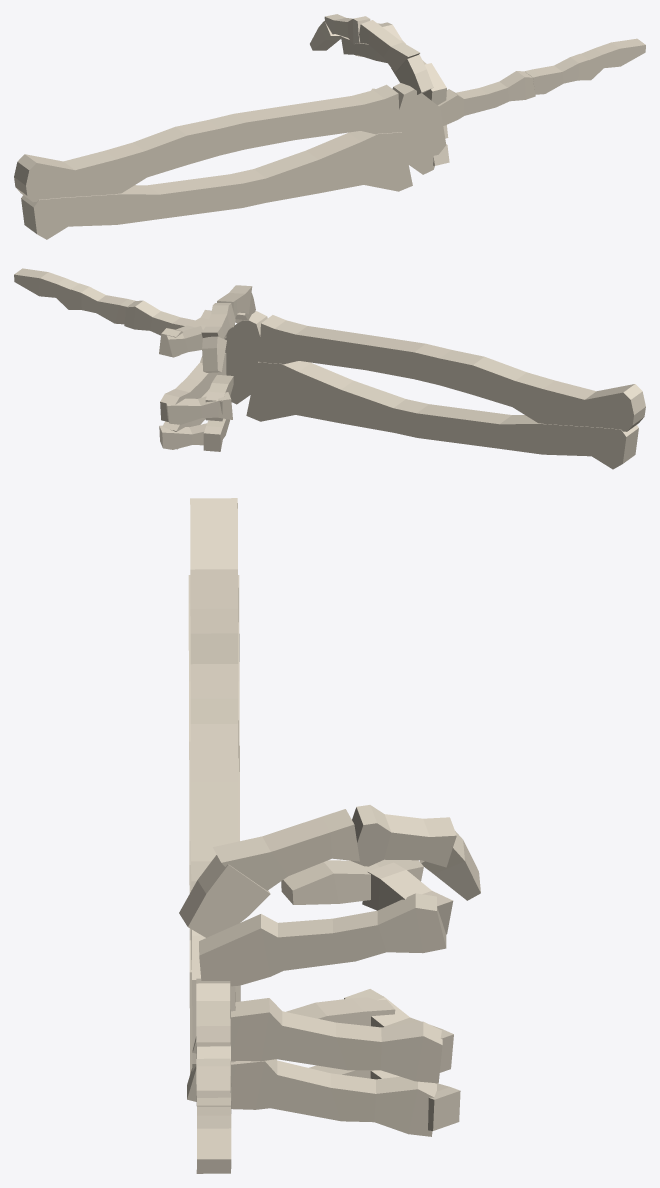
The model's file is RightHandRude.fbx.
The picture shows the model from 3 angles, top to bottom: view 1: azimuth 30°, elevation 25°; view 2: azimuth 150°, elevation 25°; view 3: azimuth 270°, elevation 25°; orthographic projection. The views are drawn at different scales.
Parts seen in each view (by area): view 1: ThumbBone4; view 2: ThumbBone4; view 3: ThumbBone4.
Part boxes in pixels (bbox=[...]): ThumbBone4: bbox=[14, 14, 645, 239]; ThumbBone4: bbox=[14, 268, 645, 469]; ThumbBone4: bbox=[179, 498, 480, 1173].
Bounding box in the file's own units: 93.6 × 20.35 × 19.69.
